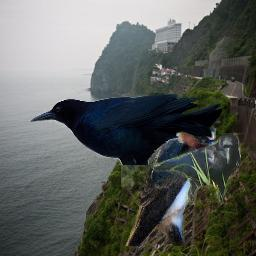Crow: (29, 93, 222, 165), (150, 133, 241, 205)
Swallow: (121, 115, 216, 246)
